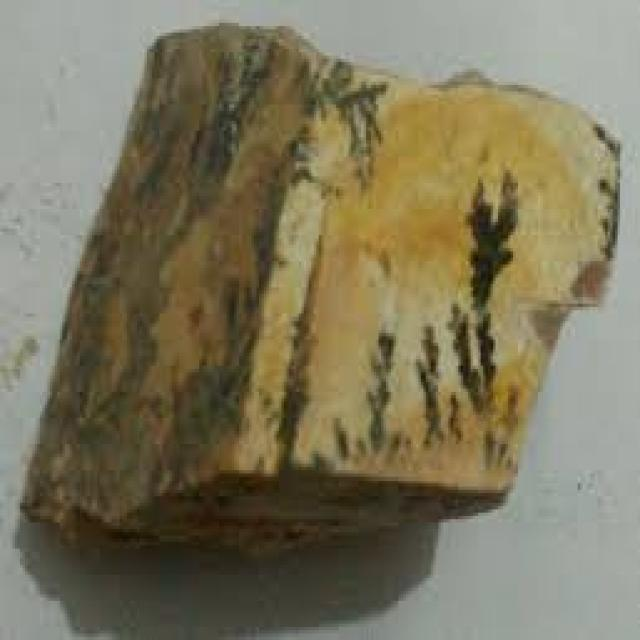Metamorphic: (32, 26, 622, 549)
